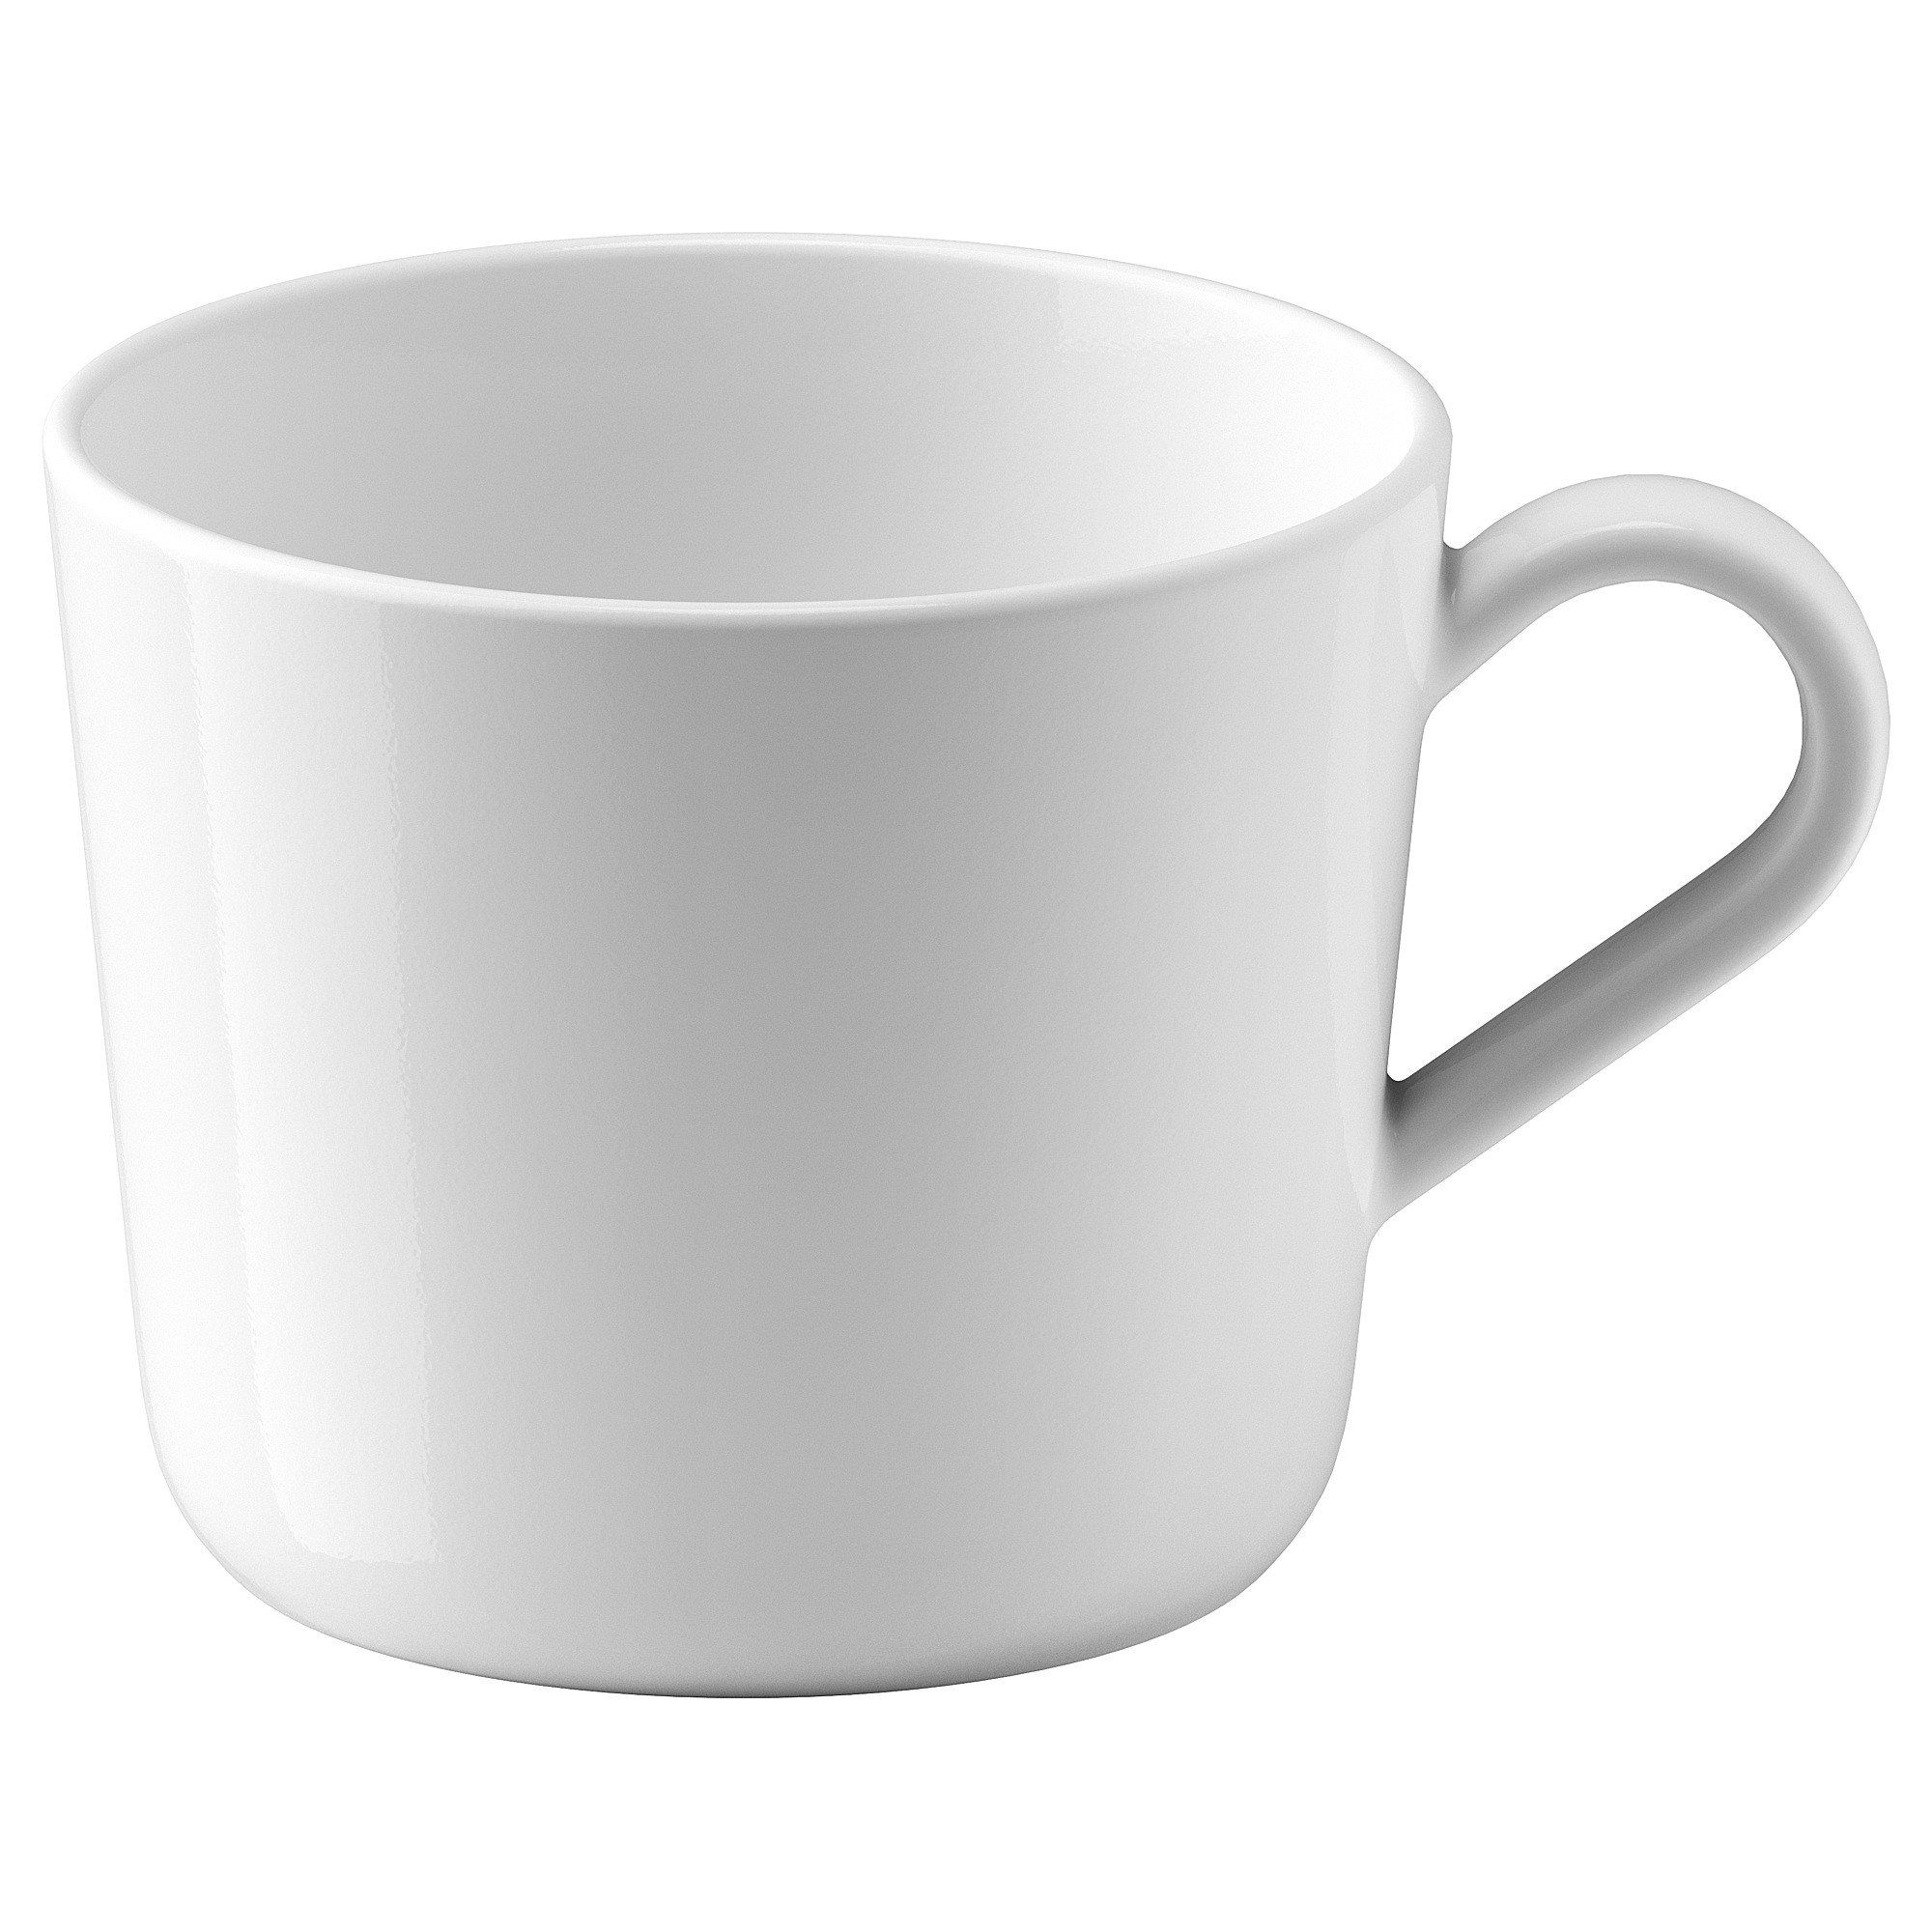gelas: (27, 203, 1904, 1691)
